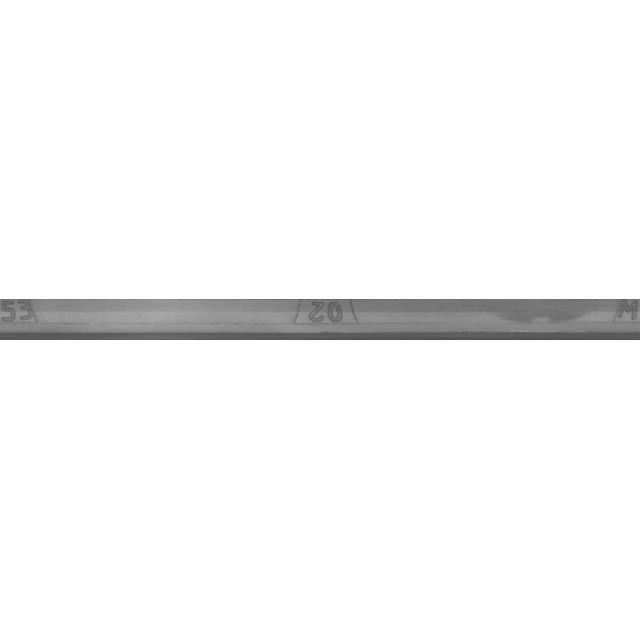mohao: (533, 270, 640, 370)
xuehao: (229, 270, 429, 370)
